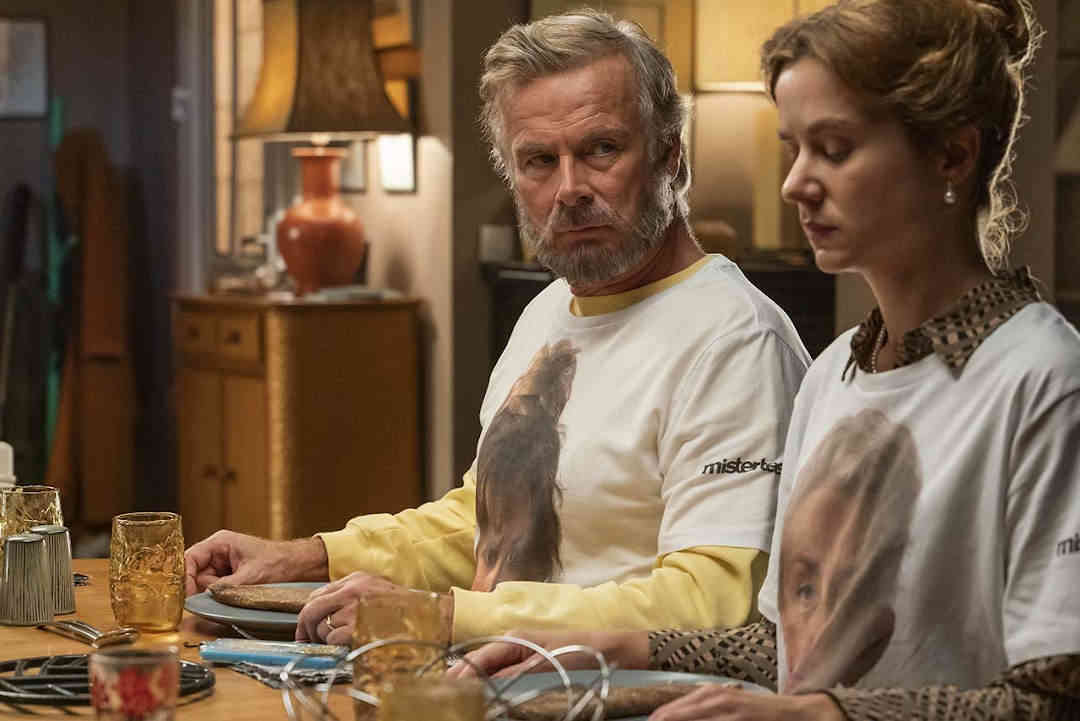without_mask: (756, 88, 919, 282), (509, 91, 665, 268)
